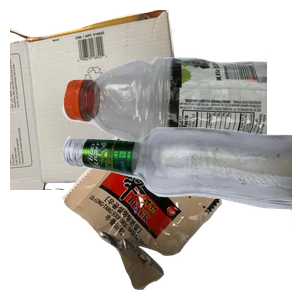cardboard: (10, 10, 191, 190)
glass: (60, 124, 300, 300)
plastic: (60, 53, 300, 201)
trash: (59, 124, 273, 300)
